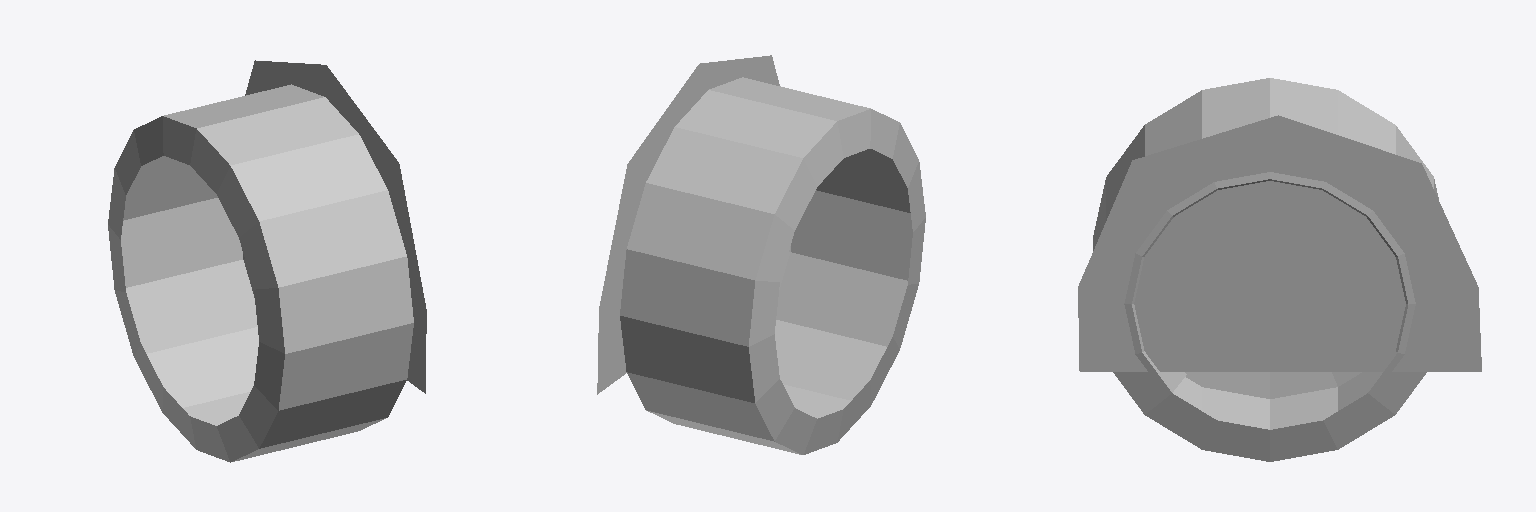
The model's file is leftTire.obj.
3 views of the same model, side by side, from view 1: azimuth 30°, elevation 25°; view 2: azimuth 150°, elevation 25°; view 3: azimuth 270°, elevation 25° (orthographic).
Visible parts, largest first — view 1: leftTire_Cube.005; view 2: leftTire_Cube.005; view 3: leftTire_Cube.005.
Boxes of the visible parts, box(x1,y1,x2,y2) form: leftTire_Cube.005: box(108, 60, 426, 462); leftTire_Cube.005: box(597, 55, 925, 454); leftTire_Cube.005: box(1078, 78, 1481, 461).
Bounding box in the file's own units: 0.3232 × 0.761 × 0.7976.